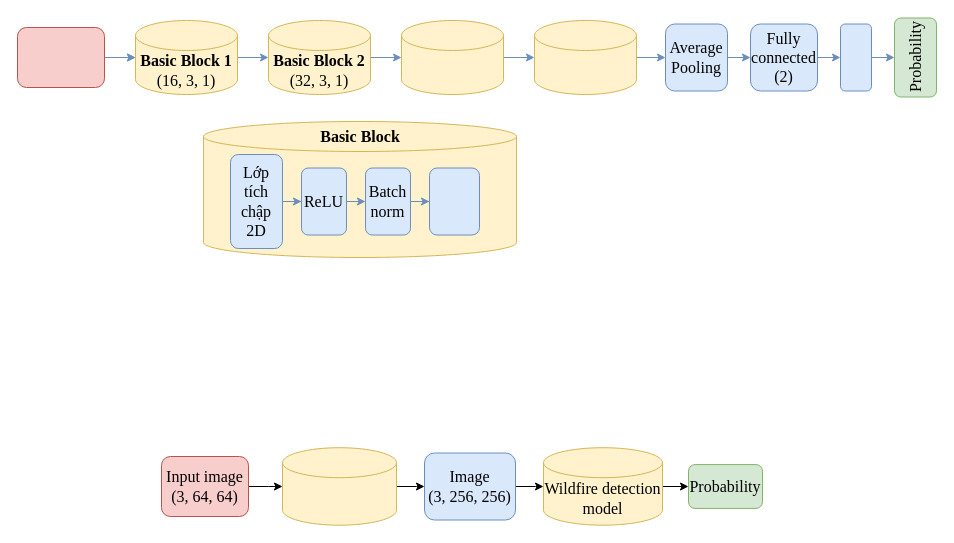
The diagram is 954 pixels wide and 543 high, and some of its shapes have lost their labels. The centre of each missing label's shape, as x and y in pixels:
"Basic Block 3 (64, 3, 1)" belongs at [452,57].
"Basic Block 4 (128, 3, 1)" belongs at [585,57].
"Input image (3, 64, 64) (3, 256, 256)" belongs at [60,57].
"Max pooling" belongs at [454,201].
"Softmax" belongs at [856,57].
"Super resolution model" belongs at [339,486].
